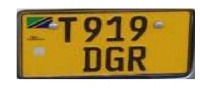T: (57, 15, 79, 44)
